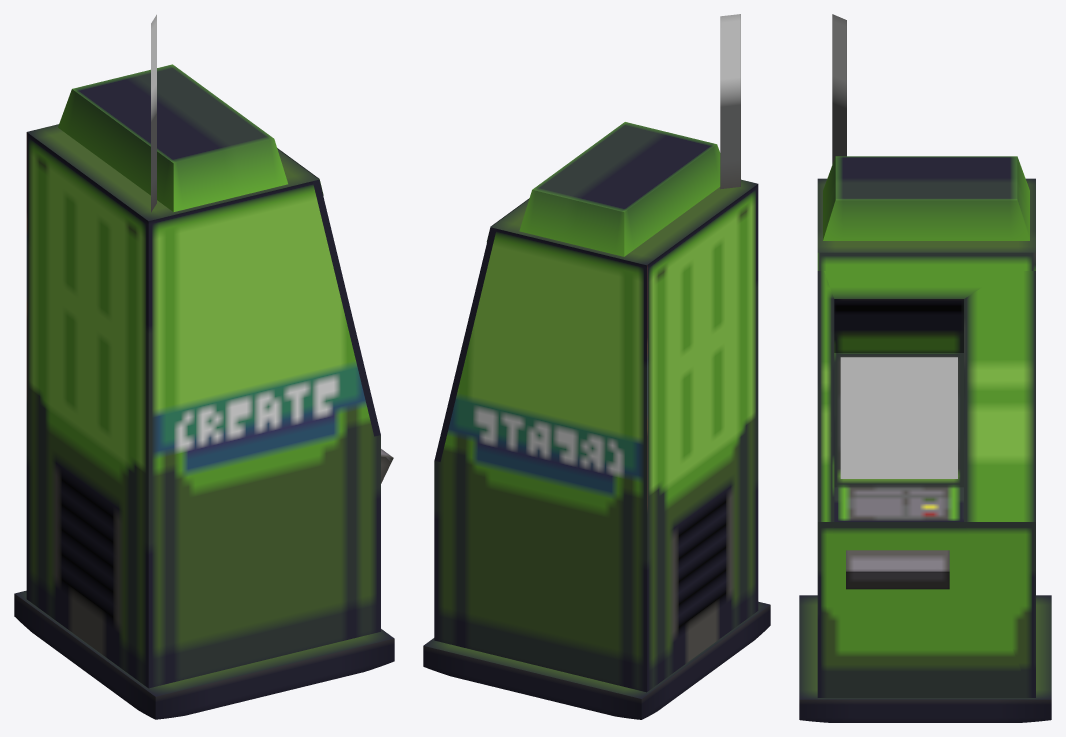
Rendered from BankMachine.fbx.
3 views of the same model, side by side, from view 1: azimuth 30°, elevation 25°; view 2: azimuth 150°, elevation 25°; view 3: azimuth 270°, elevation 25° (orthographic). The views are drawn at different scales.
Parts seen in each view (by area): view 1: Base; view 2: Base; view 3: Base, IN_Screen.
Boxes of the visible parts, left/top/right/bottom form: Base: left=14, top=14, right=394, bottom=719; Base: left=423, top=14, right=770, bottom=719; Base: left=799, top=14, right=1051, bottom=722; IN_Screen: left=840, top=357, right=957, bottom=478.
Size of the model in its own units: 218 by 537 by 201.
